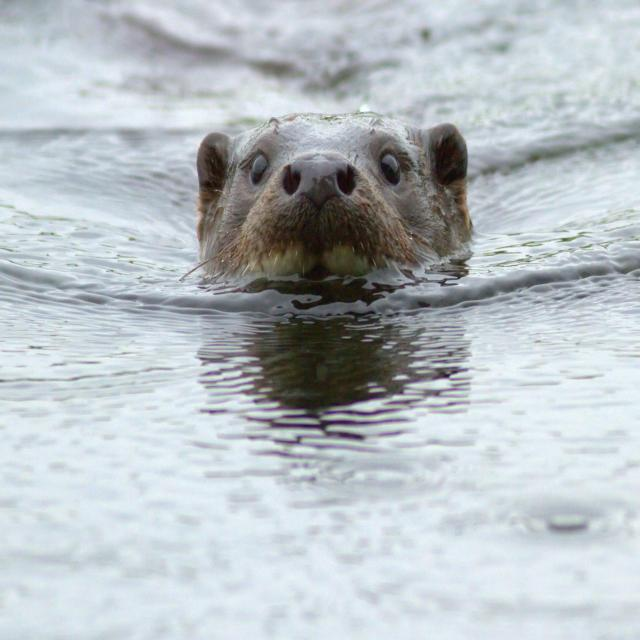otter: (198, 115, 469, 274)
